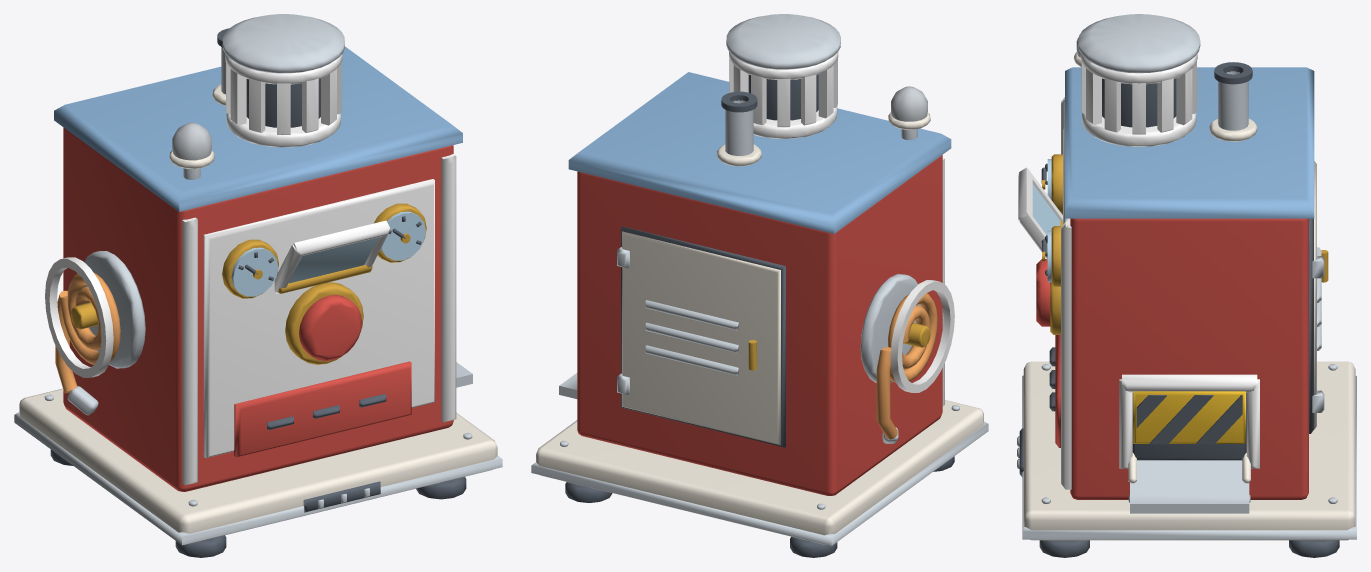
Rendered from machine_alarm.glb.
3 views of the same model, side by side, from view 1: azimuth 30°, elevation 25°; view 2: azimuth 150°, elevation 25°; view 3: azimuth 270°, elevation 25° (orthographic). The views are drawn at different scales.
Parts seen in each view (by area): view 1: machine_alarm_structure, spin, lamp; view 2: machine_alarm_structure, spin, lamp; view 3: machine_alarm_structure, spin.
Boxes of the visible parts, bbox=[...] form: machine_alarm_structure: bbox=[14, 28, 502, 557]; spin: bbox=[222, 14, 344, 147]; lamp: bbox=[172, 122, 211, 160]; machine_alarm_structure: bbox=[531, 72, 988, 557]; spin: bbox=[726, 14, 840, 138]; lamp: bbox=[891, 86, 927, 121]; machine_alarm_structure: bbox=[1017, 52, 1356, 557]; spin: bbox=[1078, 14, 1200, 146].
Bounding box in the file's own units: 3.16 × 3.82 × 2.56.
